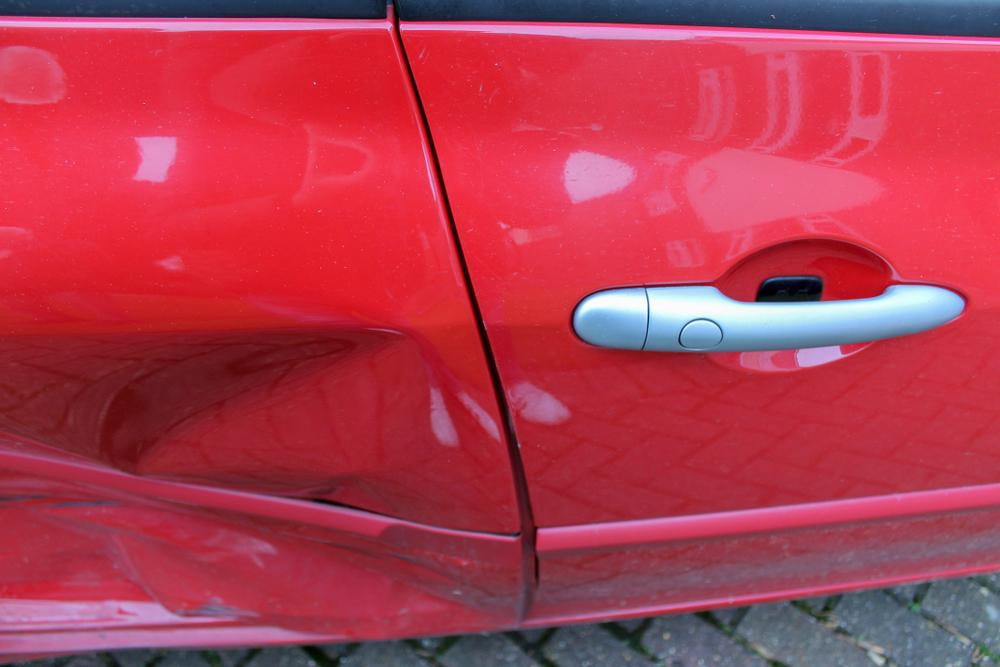dent: (18, 331, 427, 504)
